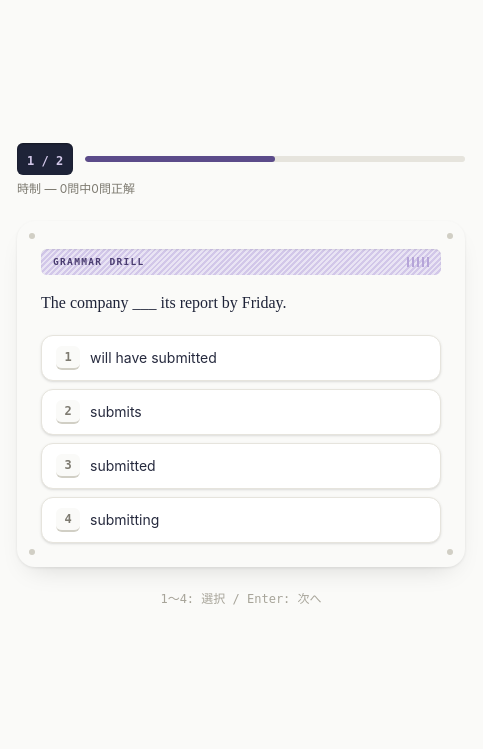
Test case: GrammarDrill › shows the "よくある間違いのポイント" box when the question has an additionalExplanation (11章)
The image size is (483, 749).
Step 1. Click the button "1 will have submitted" → (153, 358), box [41,335,441,381]
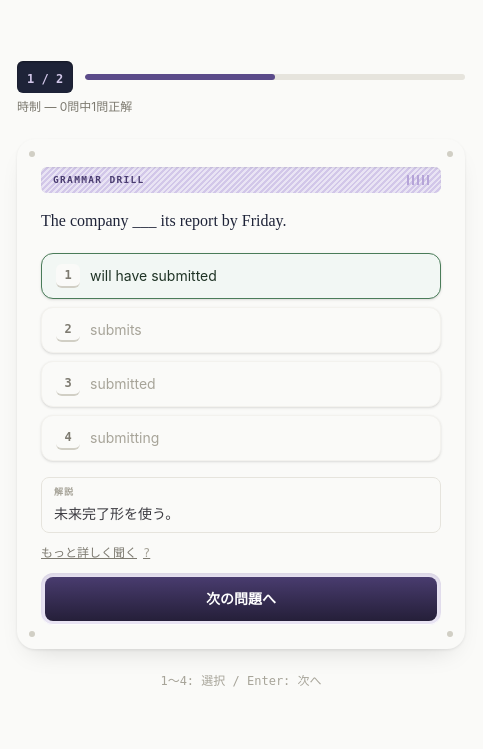
Step 2. Click the button "次の問題へ" → (241, 599), box [45,577,437,621]
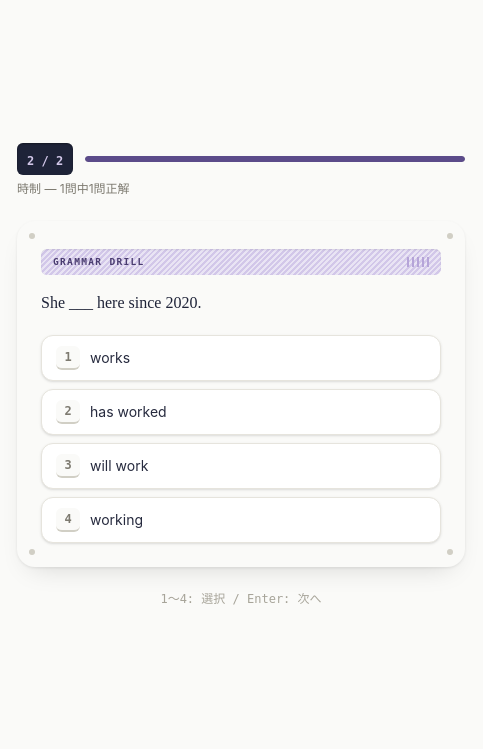
Check: the text "She ___ here since 2020." is shown, box [41,294,201,311]
Step 3. Click the button "2 has worked" → (128, 412), box [41,389,441,435]
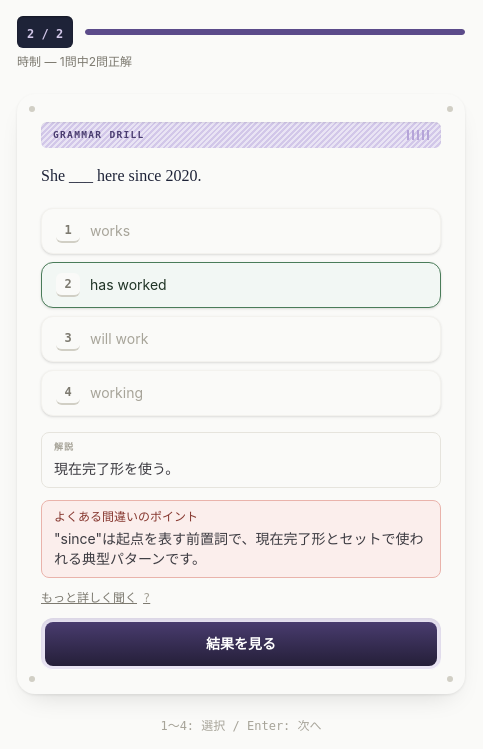
Check: the text "現在完了形を使う。" is shown, box [54,460,179,477]
Check: the text "よくある間違いのポイント" is shown, box [54,509,198,524]
Check: the text "\"since\"は起点を表す前置詞で、現在完了形とセットで使われる典型パターンです。" is shown, box [54,529,428,569]
